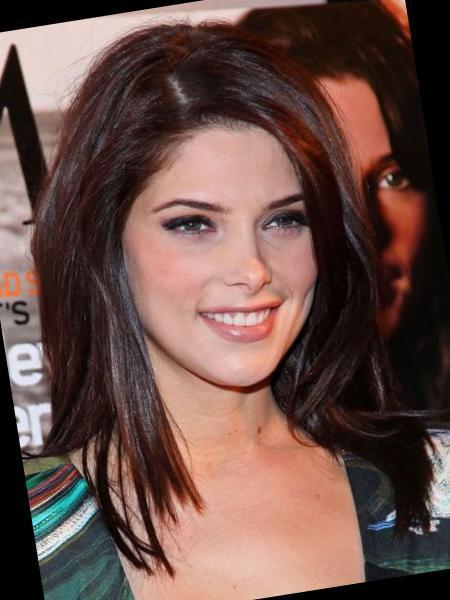Sober: (138, 139, 310, 376)
